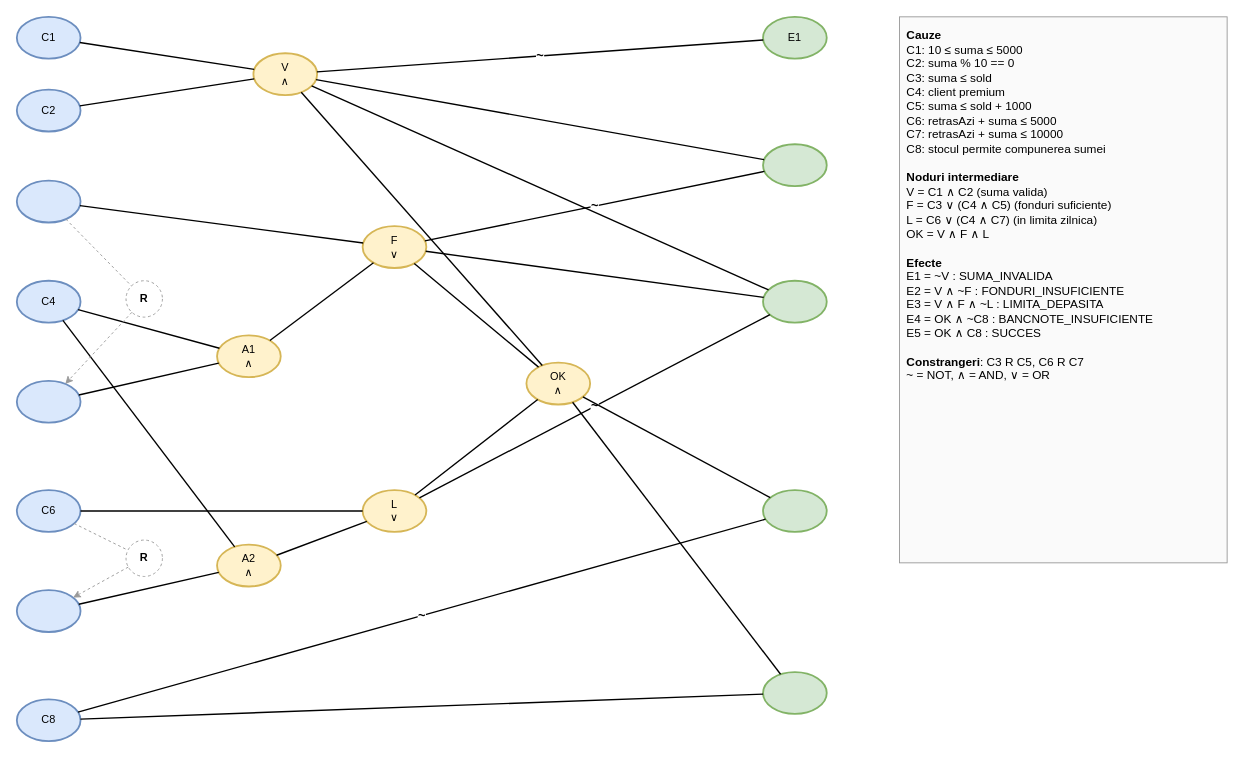
Image size: 1243x757. Some labels were removed from this diagram. The shapes that lost their labels are listed below. From the top down, each one's centre as x and y in pixels, then its label:
[794,165]: E2 ∧
[48,201]: C3
[794,301]: E3 ∧
[48,401]: C5
[794,510]: E4 ∧
[48,610]: C7
[794,692]: E5 ∧
